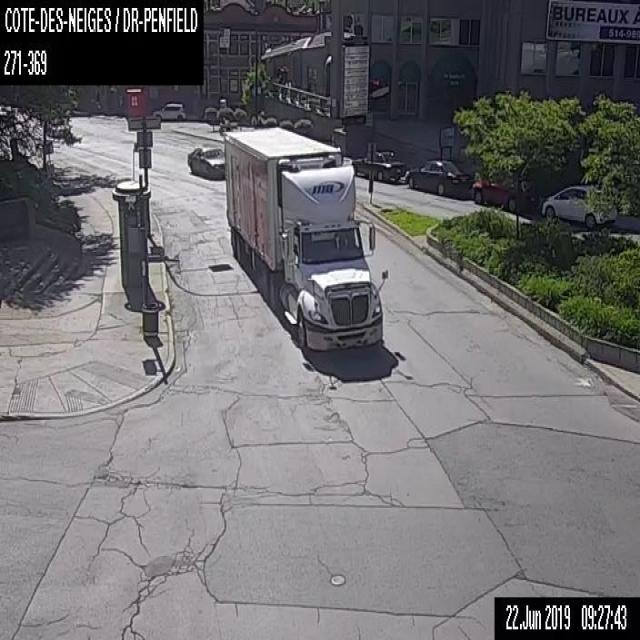vehicle: (223, 123, 389, 354), (540, 184, 618, 228), (404, 157, 473, 196), (473, 171, 538, 212), (351, 148, 405, 182), (187, 144, 225, 179), (151, 100, 186, 121)
